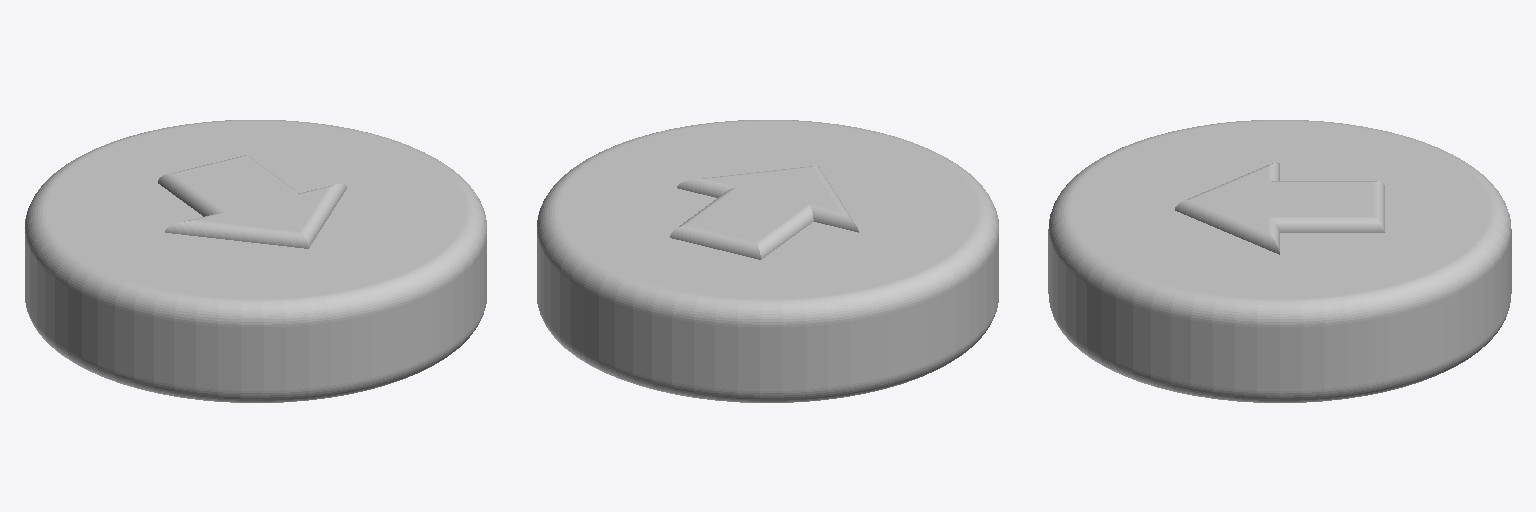
Rendered from petit2.obj.
3 views of the same model, side by side, from view 1: azimuth 30°, elevation 25°; view 2: azimuth 150°, elevation 25°; view 3: azimuth 270°, elevation 25° (orthographic).
Visible parts, largest first — view 1: Mesh1 Model; view 2: Mesh1 Model; view 3: Mesh1 Model.
Part boxes in pixels (x1,y1,x2,y2): Mesh1 Model: (25, 120, 486, 402); Mesh1 Model: (537, 120, 998, 402); Mesh1 Model: (1048, 120, 1511, 402).
Bounding box in the file's own units: 220 × 59.08 × 220.